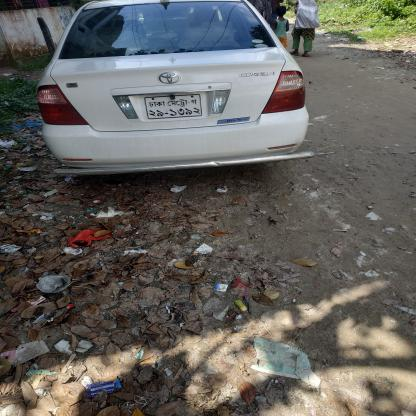license_plate: (143, 93, 200, 119)
